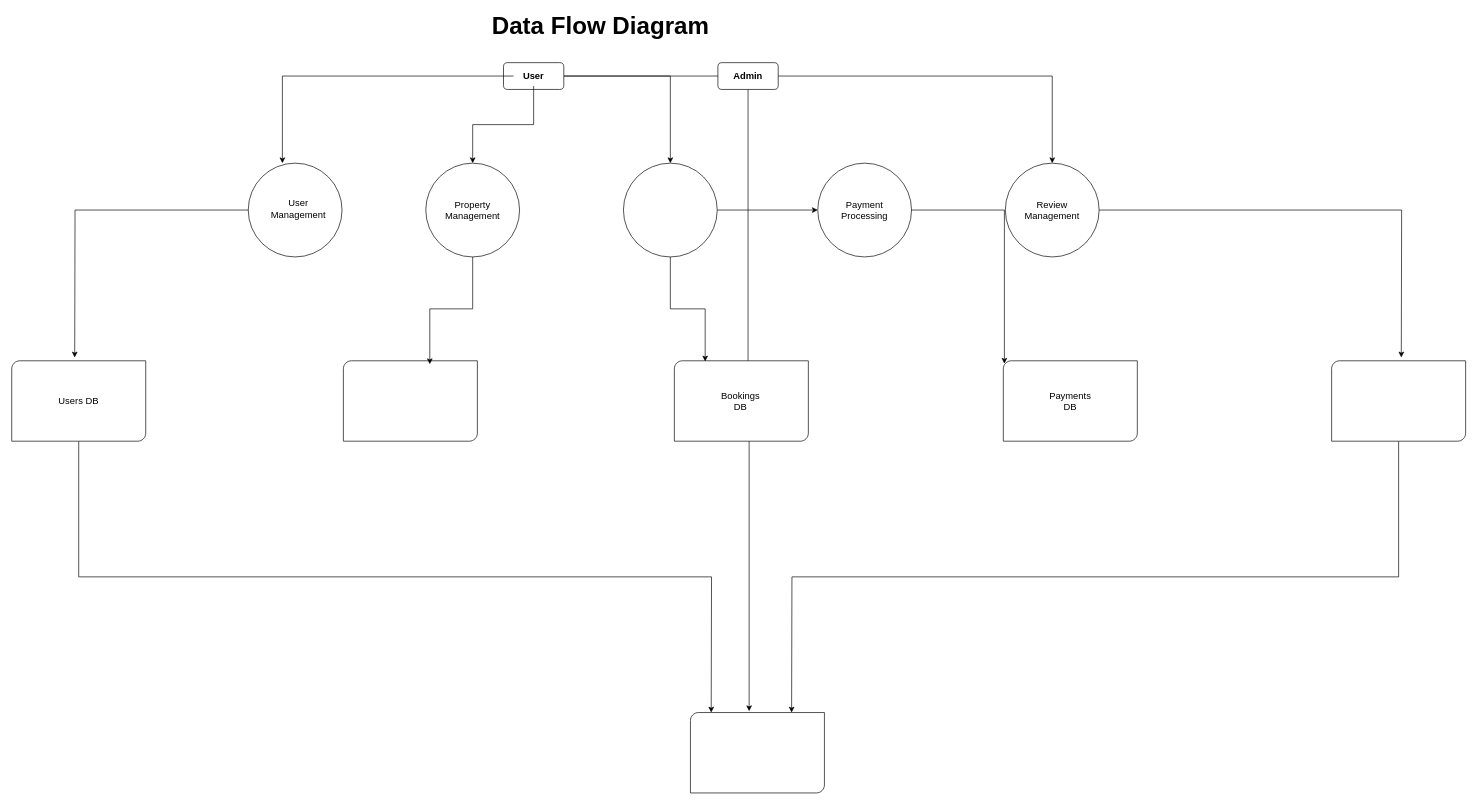
Some shapes in this 1477 by 805 pixel diagram are drawn without their labels. Here are the shapes that lost their labels. From the top down, the centre of each, then its label:
At pixel 670 209: "Booking Management".
At pixel 410 400: "Properties DB".
At pixel 1398 400: "Reviews DB".
At pixel 757 752: "All Processes".
